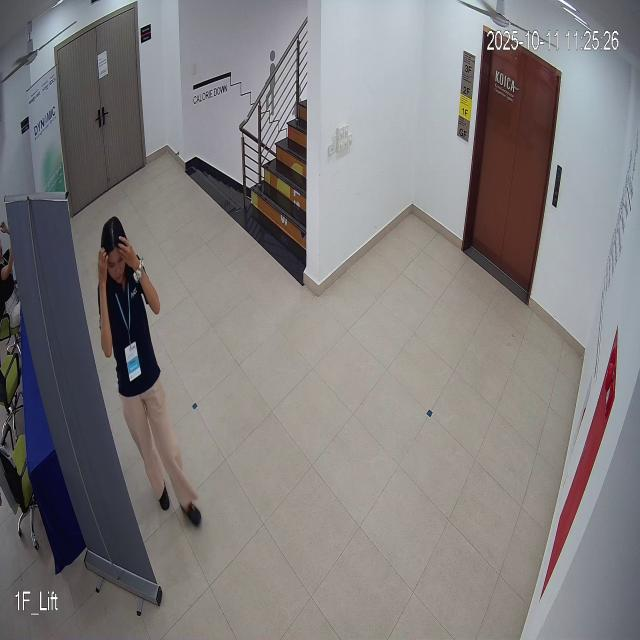face: (91, 208, 132, 292)
